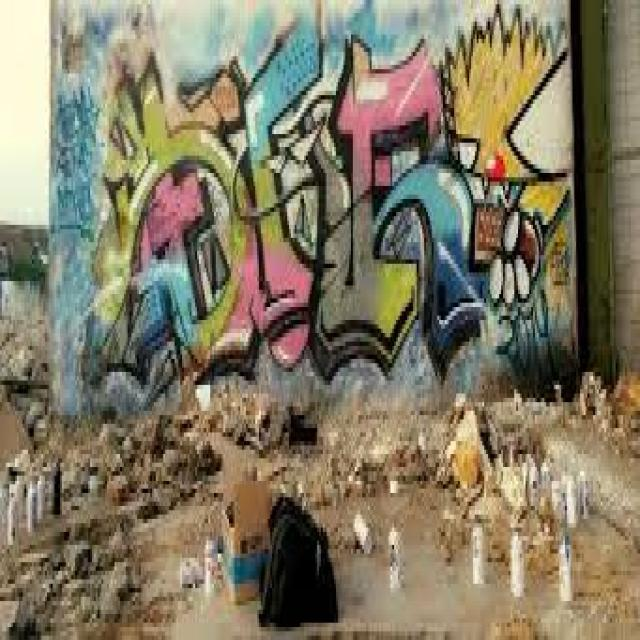-: (99, 5, 579, 388), (54, 87, 94, 254)
